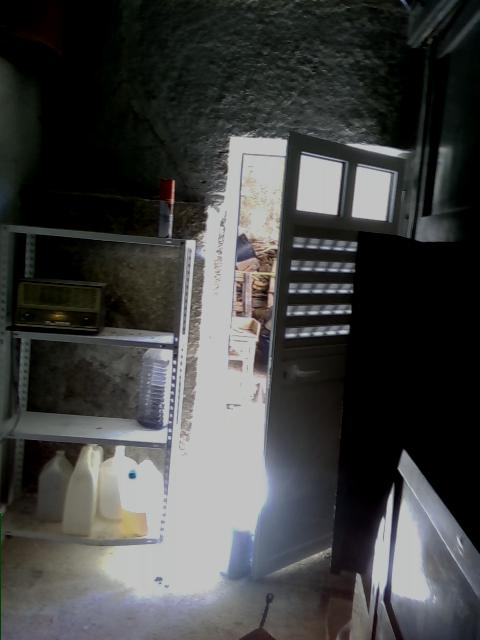semi_door: (197, 128, 416, 582)
